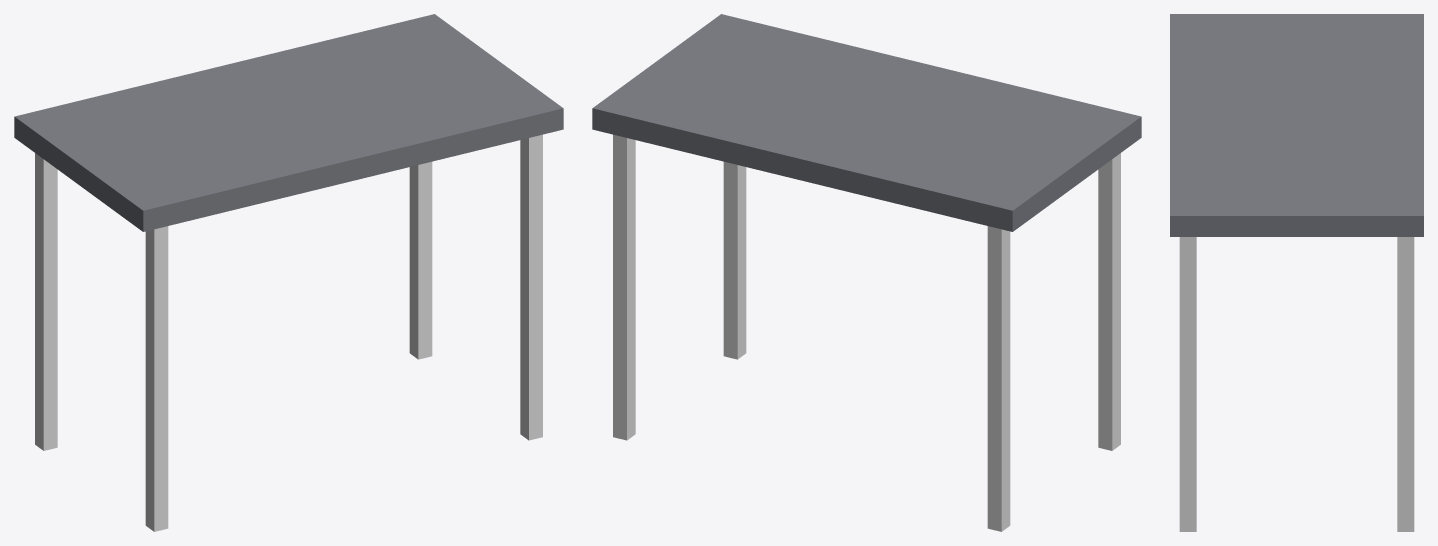
Rendered from Table2WideV1.gltf.
3 views of the same model, side by side, from view 1: azimuth 30°, elevation 25°; view 2: azimuth 150°, elevation 25°; view 3: azimuth 270°, elevation 25° (orthographic).
Parts seen in each view (by area): view 1: Table2WideV1; view 2: Table2WideV1; view 3: Table2WideV1.
Boxes of the visible parts, bbox=[...] form: Table2WideV1: bbox=[14, 14, 563, 531]; Table2WideV1: bbox=[592, 14, 1141, 531]; Table2WideV1: bbox=[1170, 14, 1423, 531].
Bounding box in the file's own units: 1.5 × 1.12 × 0.7962.
1 material, 1 textured.
